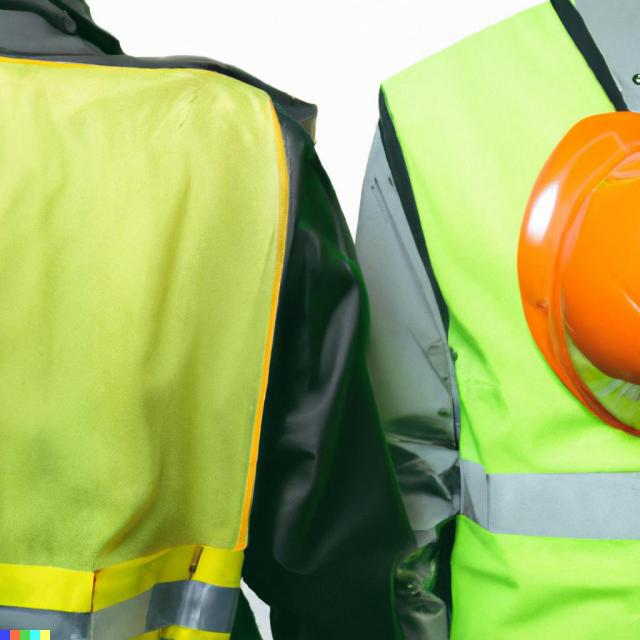Reflective-Jacket: (2, 20, 332, 640), (360, 0, 640, 640)
